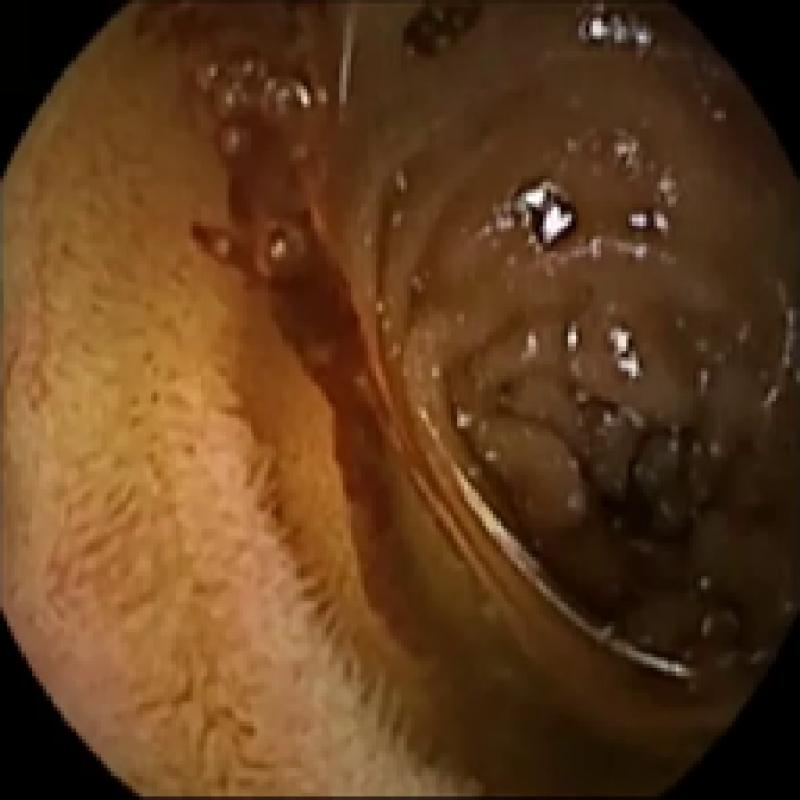bleeding: (182, 0, 443, 661)
